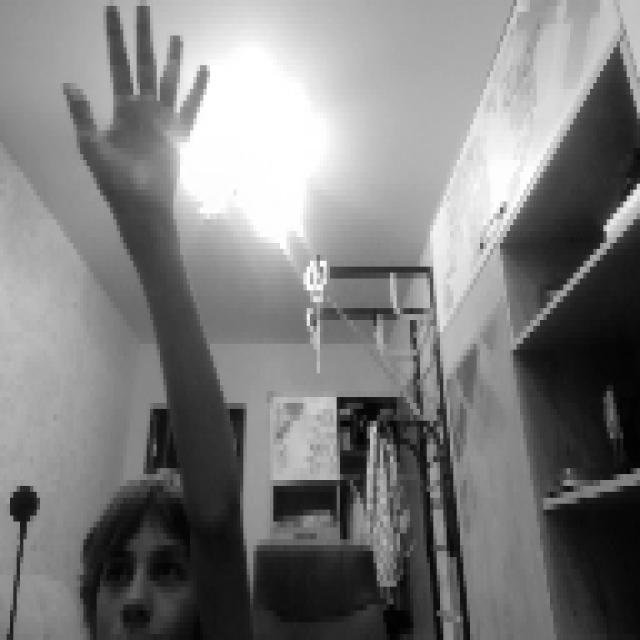hand: (56, 0, 206, 219)
